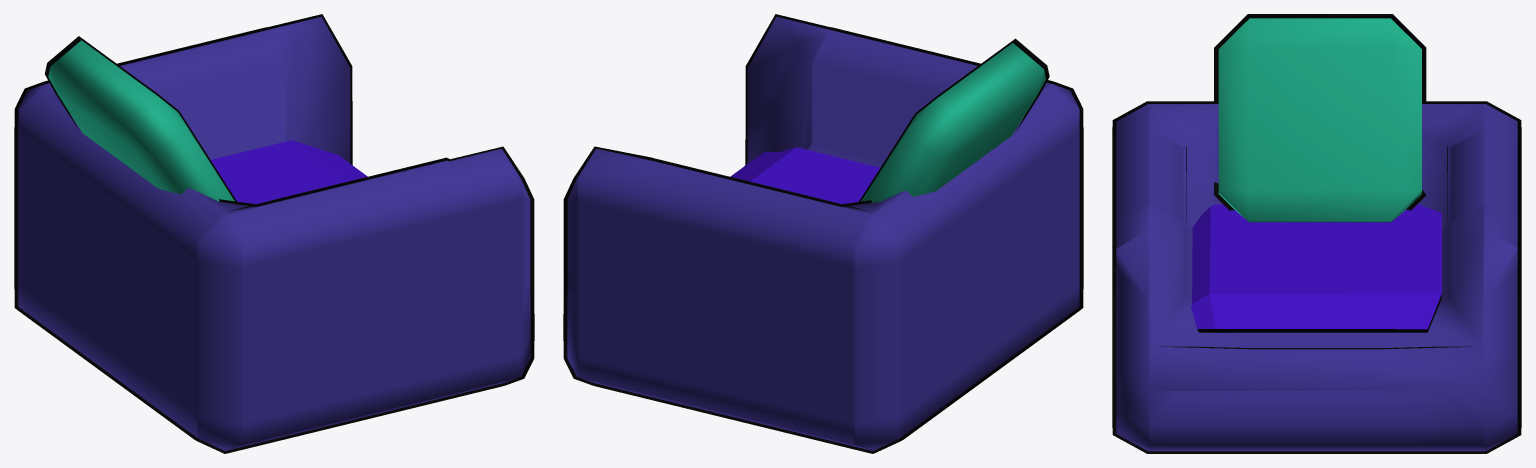
File: singlesofa.fbx
The picture shows the model from 3 angles, left to right: view 1: azimuth 30°, elevation 25°; view 2: azimuth 150°, elevation 25°; view 3: azimuth 270°, elevation 25°; orthographic projection. The views are drawn at different scales.
Visible parts, largest first — view 1: Cube, Cube.001, Plane; view 2: Cube, Cube.001, Plane; view 3: Cube, Cube.001, Plane.
Boxes of the visible parts, left/top/right/bottom form: Cube: left=14, top=14, right=534, bottom=453; Cube.001: left=45, top=36, right=236, bottom=201; Plane: left=211, top=140, right=367, bottom=204; Cube: left=563, top=14, right=1083, bottom=453; Cube.001: left=859, top=38, right=1049, bottom=202; Plane: left=730, top=147, right=879, bottom=204; Cube: left=1112, top=101, right=1521, bottom=453; Cube.001: left=1214, top=14, right=1426, bottom=222; Plane: left=1191, top=204, right=1441, bottom=332.
Size of the model in its own units: 529 by 462 by 563.
